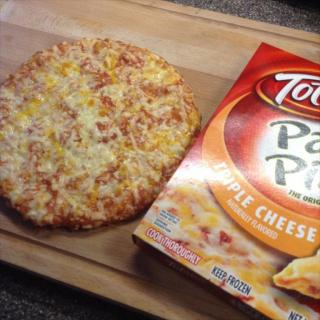Pizza: (0, 42, 209, 241)
